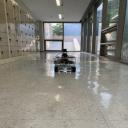cart: (54, 57, 76, 72)
